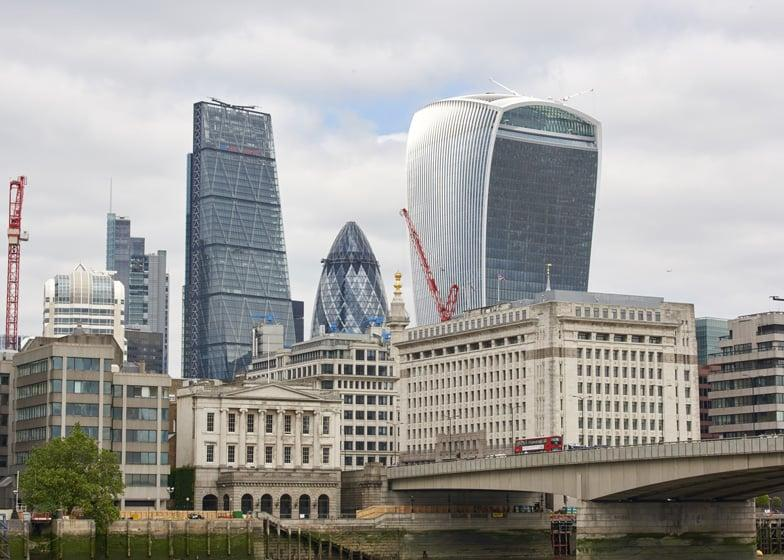Walkie talkie: (401, 76, 610, 316)
